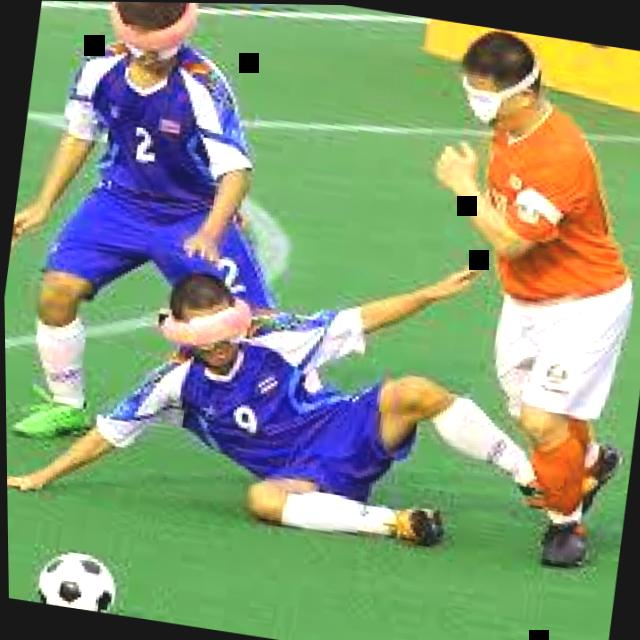Fall-Detected: (2, 164, 563, 582)
